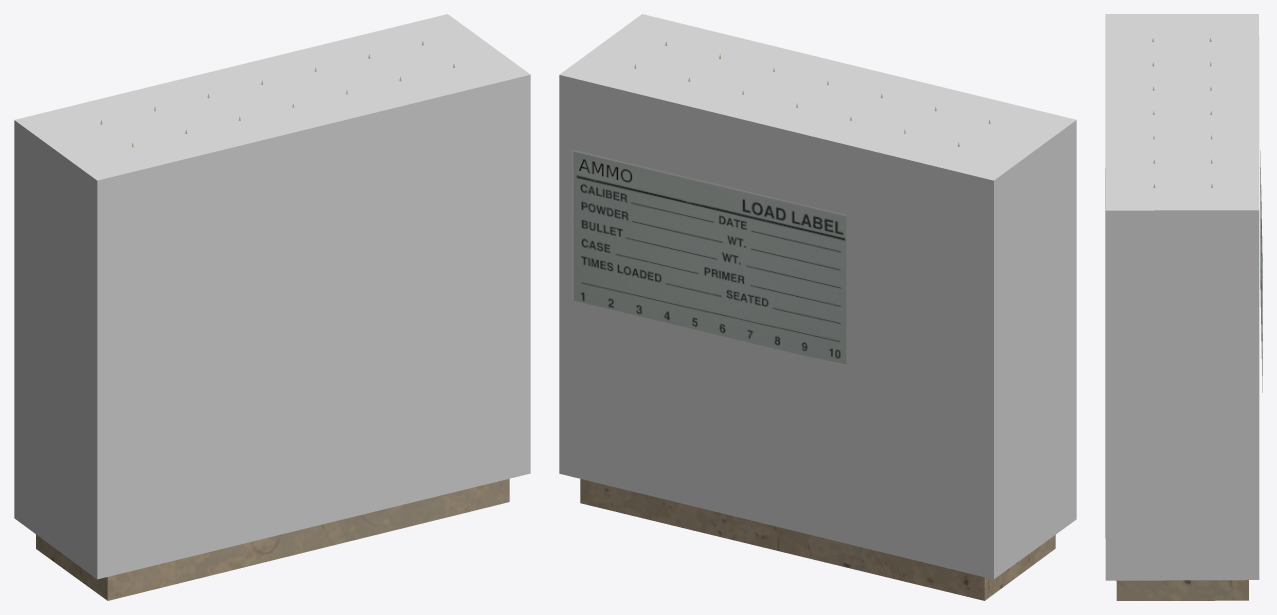
The model's file is rifle-ammo-box.fbx.
3 views of the same model, side by side, from view 1: azimuth 30°, elevation 25°; view 2: azimuth 150°, elevation 25°; view 3: azimuth 270°, elevation 25° (orthographic). The views are drawn at different scales.
Visible parts, largest first — view 1: rifle-ammo-box-pt1, rifle-ammo-box-pt2; view 2: rifle-ammo-box-pt1, rifle-ammo-box-pt2; view 3: rifle-ammo-box-pt1, rifle-ammo-box-pt2.
Part boxes in pixels (x1,y1,x2,y2): rifle-ammo-box-pt1: (14, 14, 530, 579); rifle-ammo-box-pt2: (36, 41, 509, 600); rifle-ammo-box-pt1: (559, 14, 1076, 579); rifle-ammo-box-pt2: (580, 41, 1055, 600); rifle-ammo-box-pt1: (1105, 14, 1262, 580); rifle-ammo-box-pt2: (1116, 38, 1248, 600).
Bounding box in the file's own units: 131 × 125 × 44.49.
Materials: 3 (2 with a texture image).
